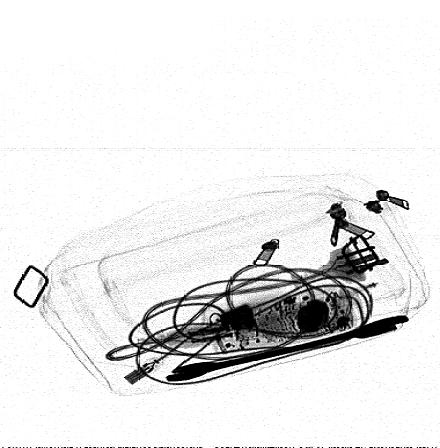Wrench: (164, 314, 411, 382)
